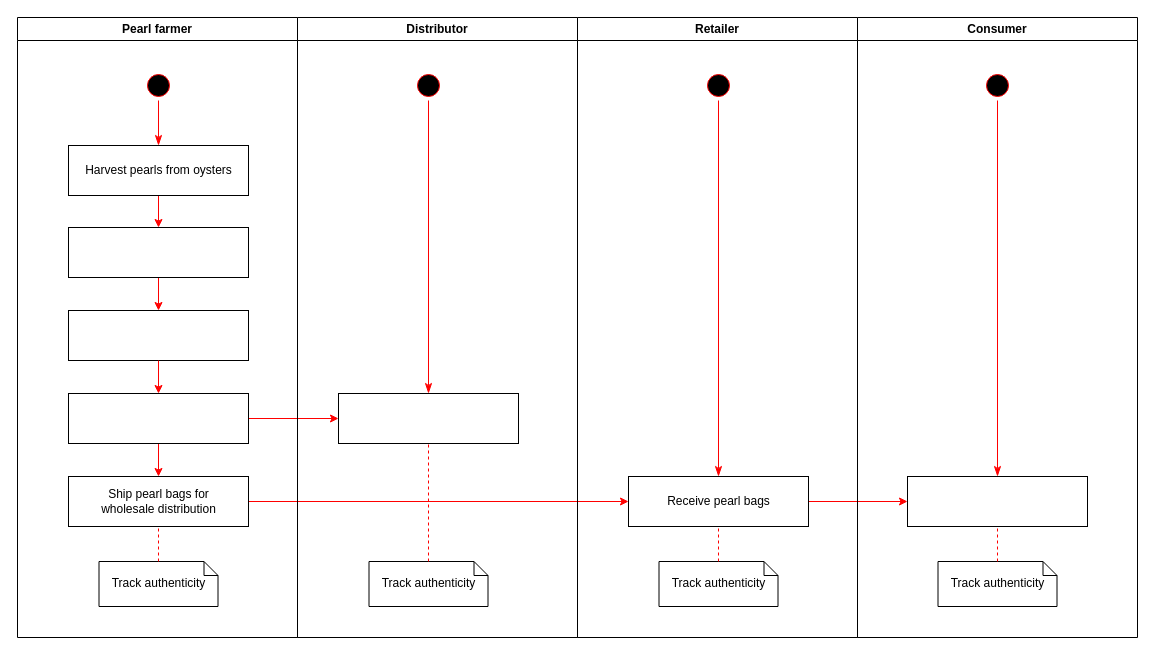
Some shapes in this 1155 by 655 pixel diagram are drawn without their labels. Each missing label, with the centre of its shape:
"Add pearl bags for wholesale distribution" belongs at point 158,418.
"Buy pearl bags" belongs at point 428,418.
"Buy pearls" belongs at point 997,501.
"Pack pearl bags" belongs at point 158,335.
"Process and categorize pearls (color, luster, shape, size)" belongs at point 158,252.
